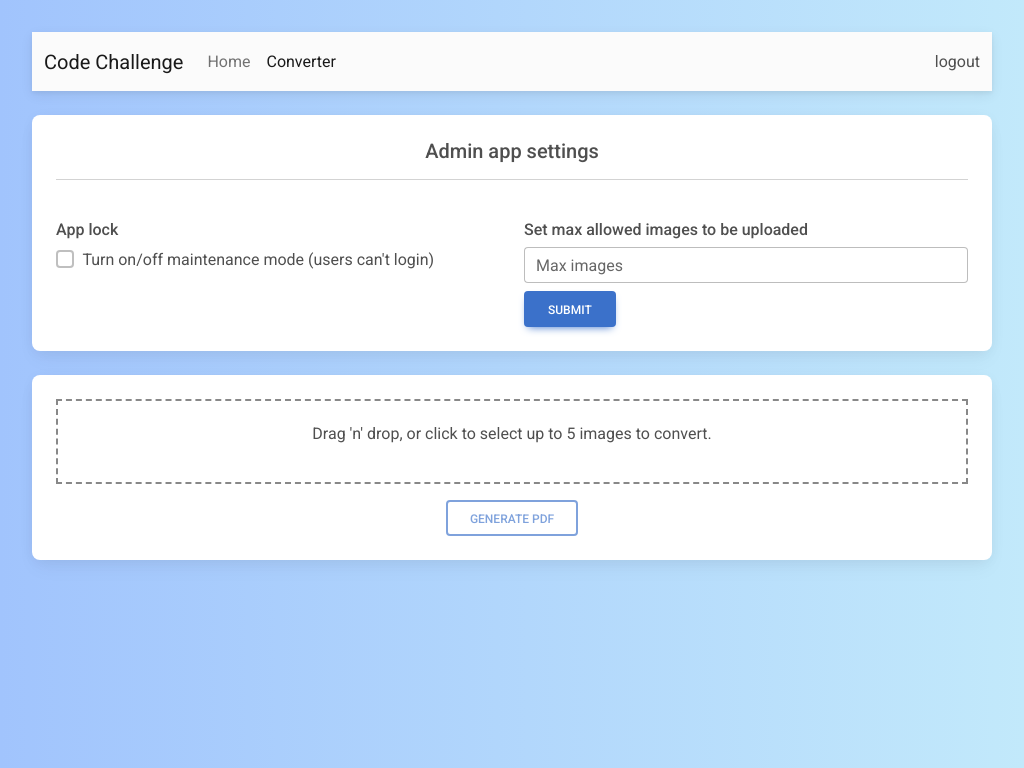
Test: When logged in as admin › it renders login page on Logout navigation click
Click the text with test id "logout". click: x=957, y=62
box: top-left (935, 49), bottom-right (980, 75)
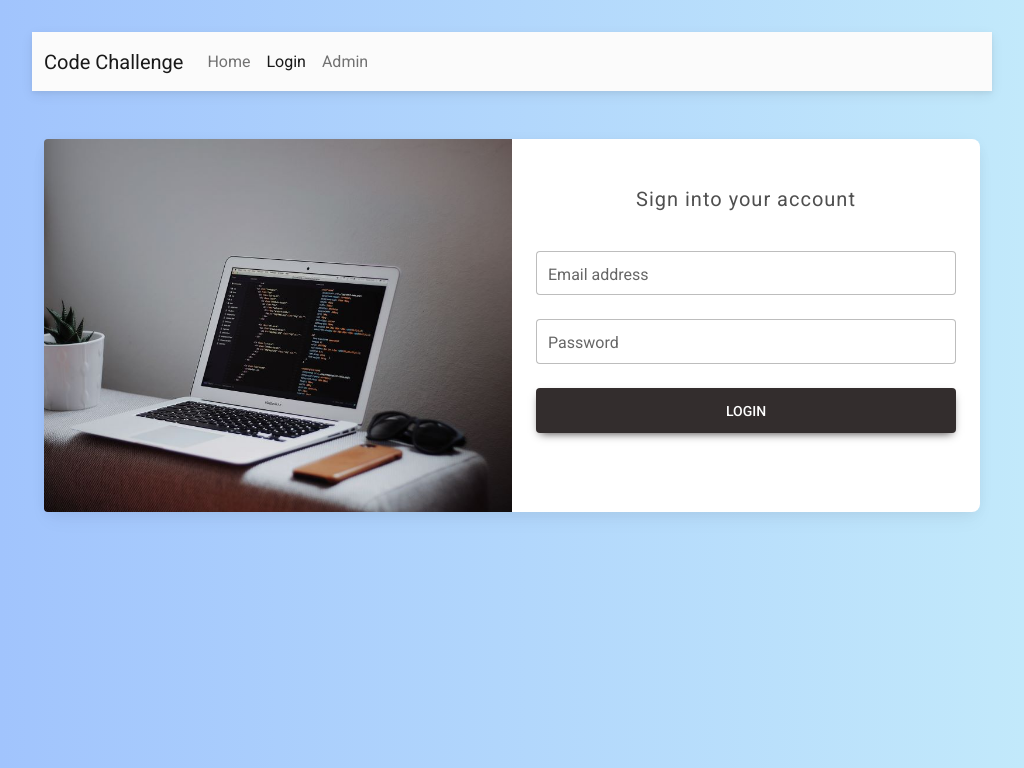
Expected: the element with test id "login-page" is shown, top-left (32, 139), bottom-right (992, 512)
